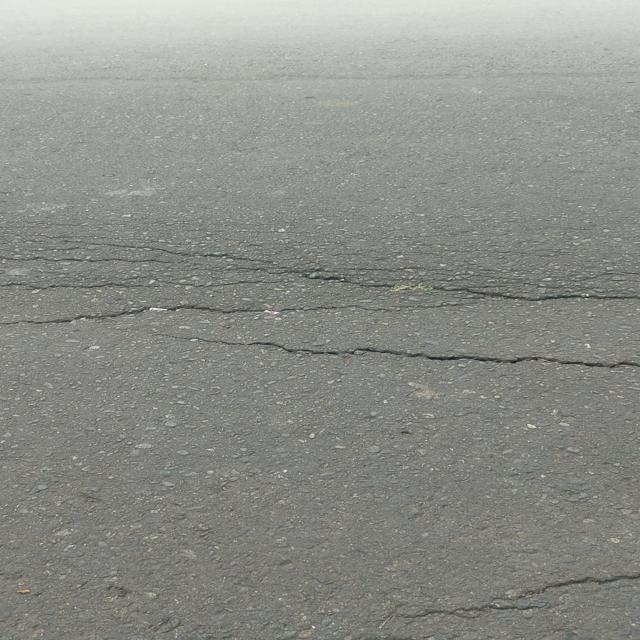Melintang: (0, 240, 640, 318), (212, 327, 640, 385)
